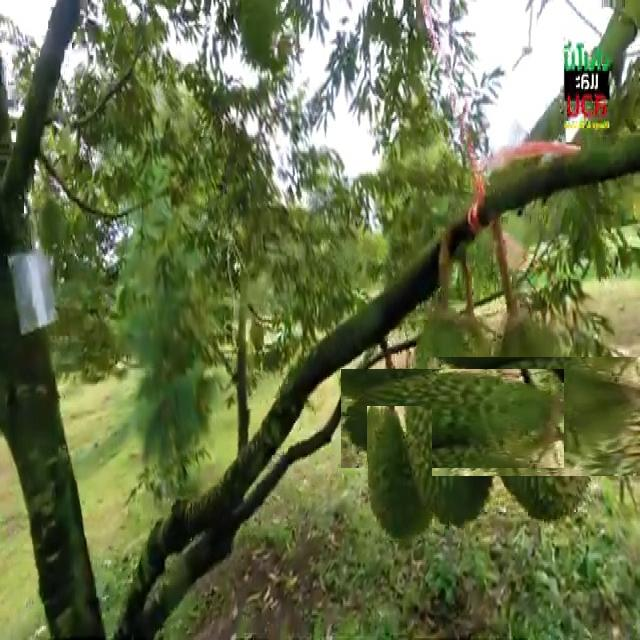durian: (452, 331, 622, 501), (371, 338, 533, 499), (367, 407, 432, 542), (248, 319, 266, 357)
